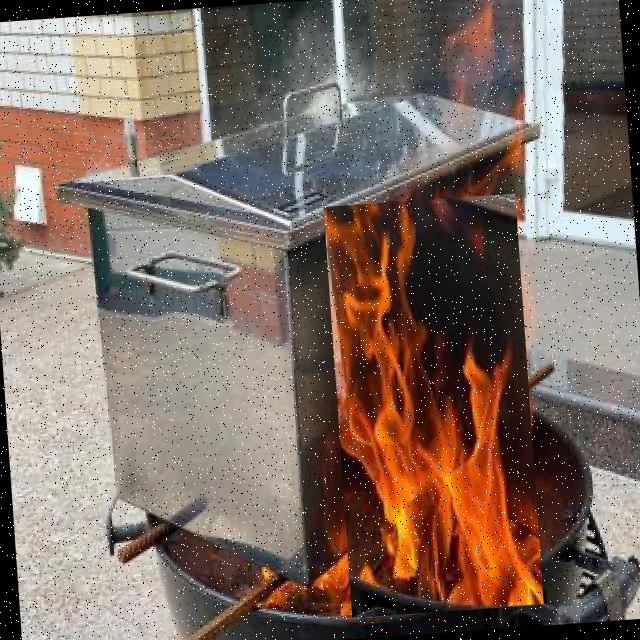fire: (323, 193, 543, 618)
